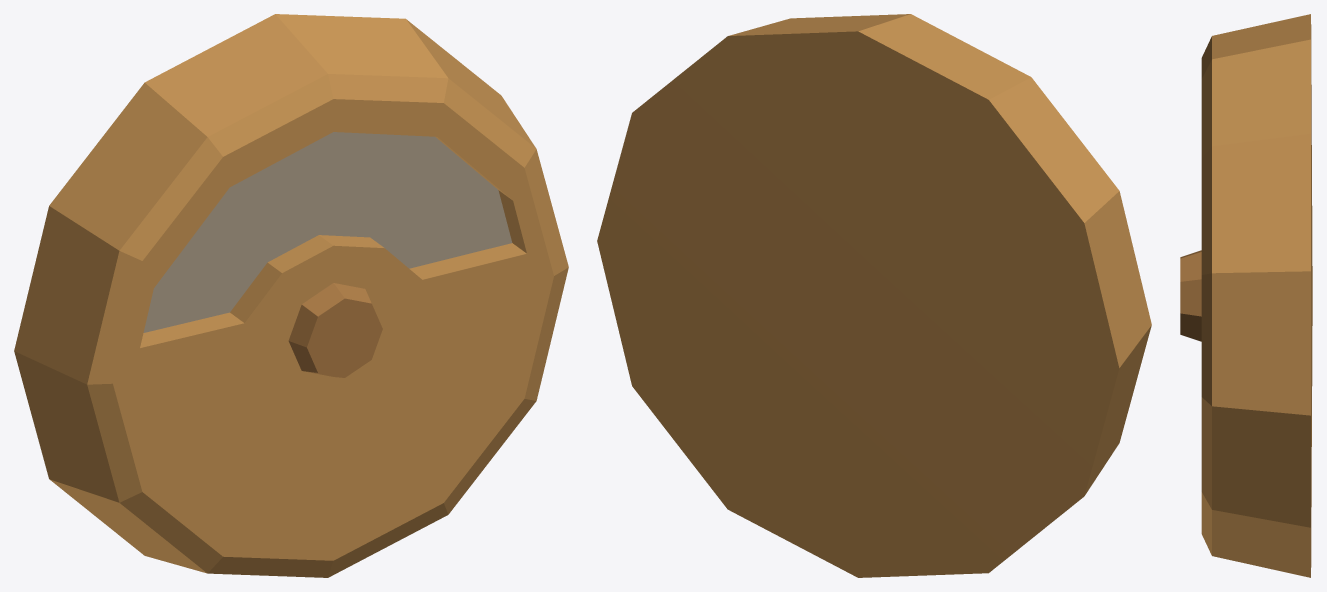
The model's file is SM_Icon_Guage_01.fbx.
3 renders of one model, left to right at view 1: azimuth 30°, elevation 25°; view 2: azimuth 150°, elevation 25°; view 3: azimuth 270°, elevation 25°, orthographic. The views are drawn at different scales.
Parts seen in each view (by area): view 1: SM_Icon_Guage_01; view 2: SM_Icon_Guage_01; view 3: SM_Icon_Guage_01.
Boxes of the visible parts, <box> form: SM_Icon_Guage_01: <box>14,14,568,577</box>; SM_Icon_Guage_01: <box>597,14,1151,577</box>; SM_Icon_Guage_01: <box>1180,14,1312,577</box>.
Size of the model in its own units: 47.93 by 47.93 by 11.2.
